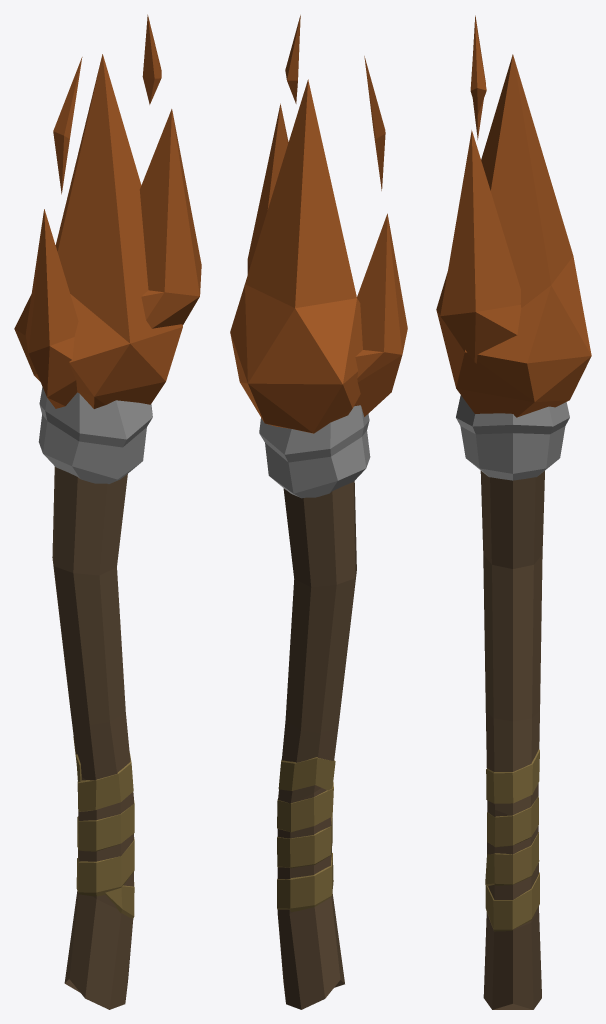
Rendered from WoodenTorch_Fire.glb.
The picture shows the model from 3 angles, left to right: view 1: azimuth 30°, elevation 25°; view 2: azimuth 150°, elevation 25°; view 3: azimuth 270°, elevation 25°; orthographic projection. The views are drawn at different scales.
Parts seen in each view (by area): view 1: WoodenTorch_Fire; view 2: WoodenTorch_Fire; view 3: WoodenTorch_Fire.
Part boxes in pixels (x1,y1,x2,y2): WoodenTorch_Fire: (14, 14, 201, 1009); WoodenTorch_Fire: (230, 15, 407, 1009); WoodenTorch_Fire: (436, 15, 591, 1009).
Bounding box in the file's own units: 0.6209 × 3.55 × 0.501.
